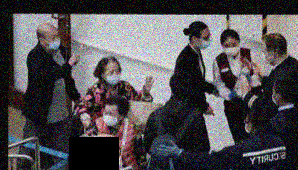with_mask: (101, 107, 120, 128), (221, 39, 240, 57), (105, 66, 122, 85), (196, 32, 212, 51), (45, 31, 61, 49), (260, 46, 272, 66), (270, 86, 279, 104), (243, 117, 250, 133)
